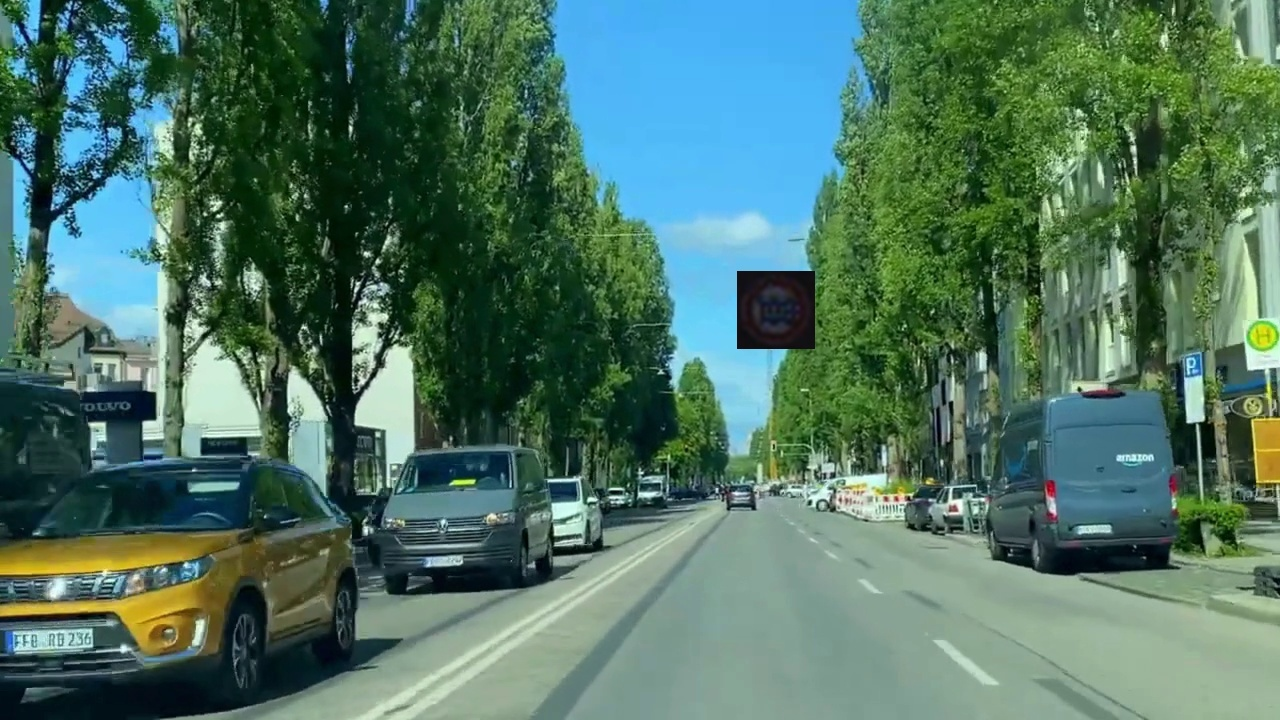Speed 100: (737, 271, 815, 349)
